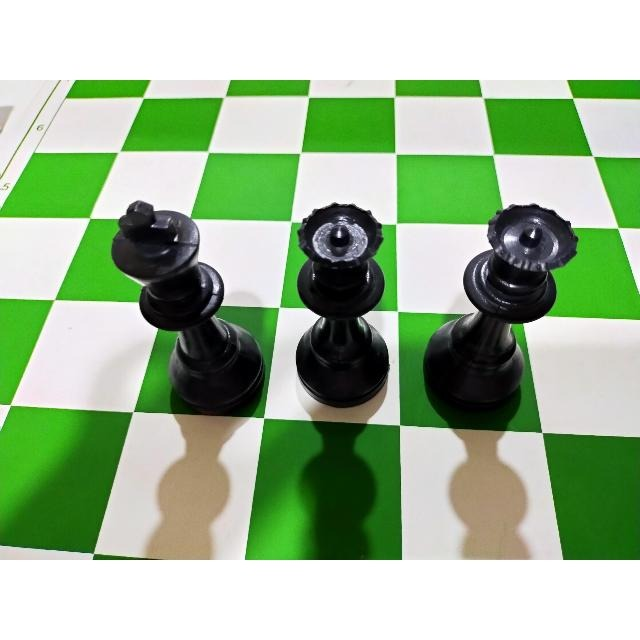black-king: (108, 198, 270, 416)
black-queen: (419, 194, 582, 433), (289, 193, 398, 407)
